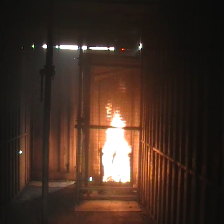fire_h: (102, 100, 132, 183)
